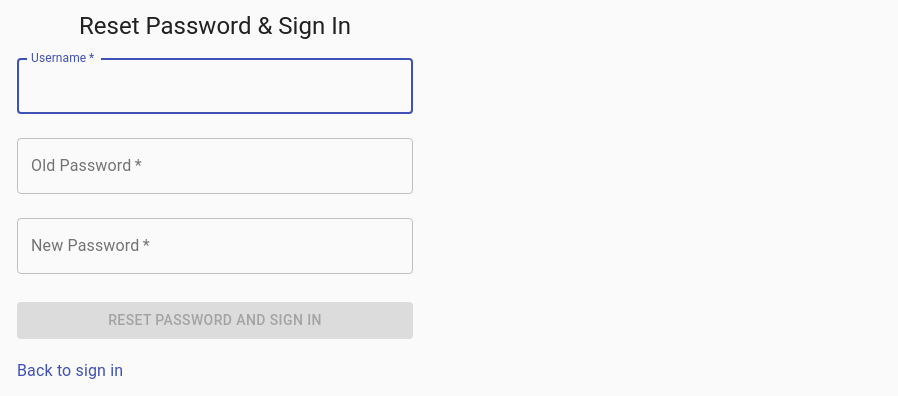
Test: Disable Form › should display error message when sign in fails
This screenshot has width=898, height=396.
In the field with id "username": (215, 86) [17,58,413,114], type "testUsername"
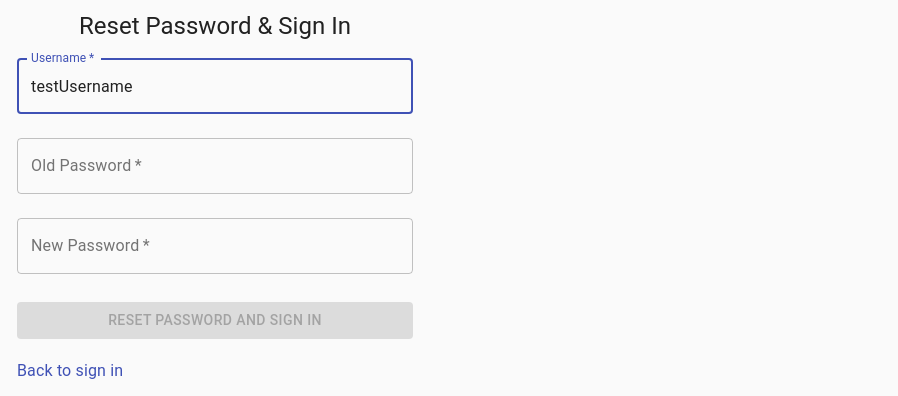
In the password field with id "old-password": (215, 166) [17,138,413,194], type "testTempPassword"
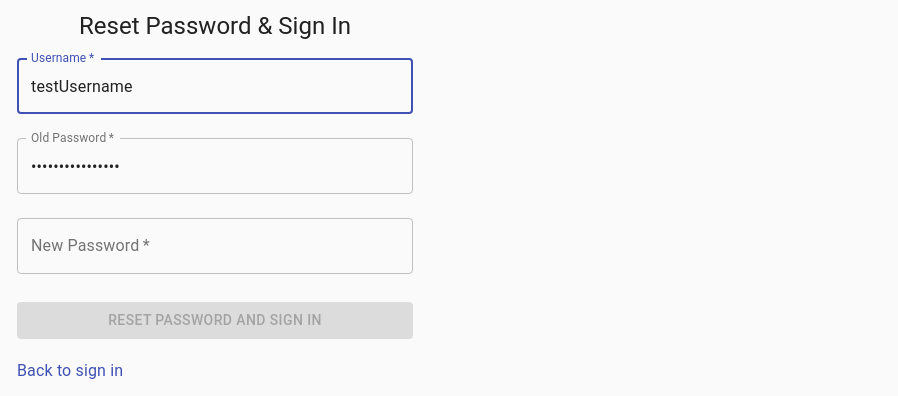
In the password field with id "new-password": (215, 246) [17,218,413,274], type "testNewPassword"
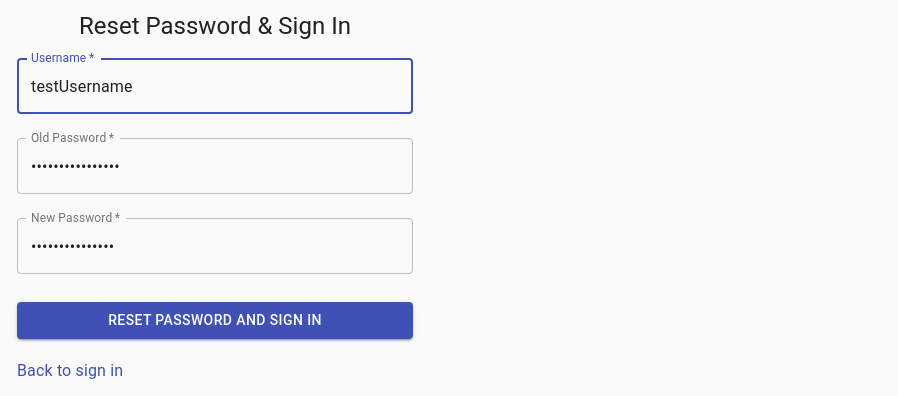
Click the button with id "submit-sign-in-button": (215, 320) [17,302,413,338]
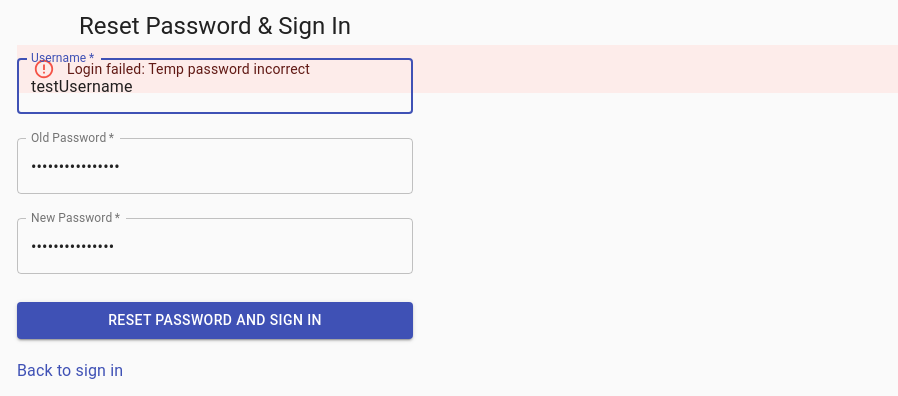
Check: the message with id "notification-alert" reads "Login failed: Temp password incorrect", box [67,61,310,77]
